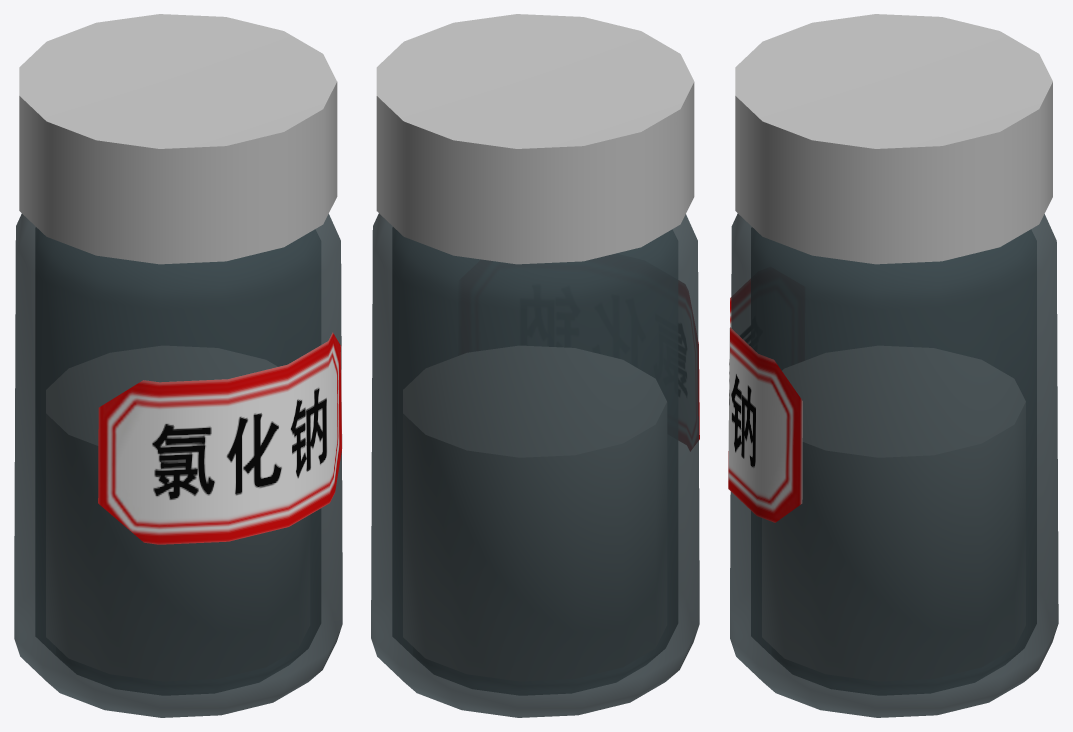
Rendered from SM_氯化钠.FBX.
3 views of the same model, side by side, from view 1: azimuth 30°, elevation 25°; view 2: azimuth 150°, elevation 25°; view 3: azimuth 270°, elevation 25° (orthographic).
Parts seen in each view (by area): view 1: SM_氯化钠瓶, SM_氯化钠盖子; view 2: SM_氯化钠瓶, SM_氯化钠盖子; view 3: SM_氯化钠瓶, SM_氯化钠盖子.
Part boxes in pixels (box(x1,y1,x2,y2)): SM_氯化钠瓶: box(14, 213, 342, 717); SM_氯化钠盖子: box(19, 14, 337, 264); SM_氯化钠瓶: box(371, 213, 699, 717); SM_氯化钠盖子: box(376, 14, 694, 264); SM_氯化钠瓶: box(728, 213, 1058, 717); SM_氯化钠盖子: box(735, 14, 1052, 264).
Size of the model in its own units: 0.0319 by 0.0318 by 0.0619.
